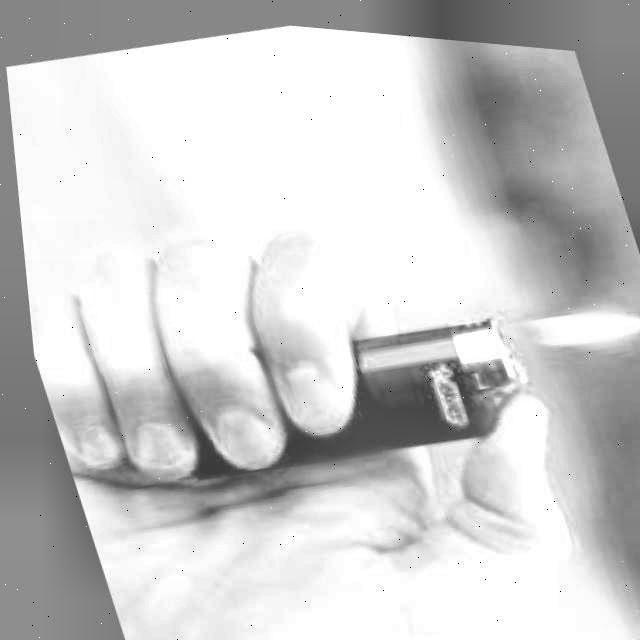Fire: (504, 283, 640, 351)
